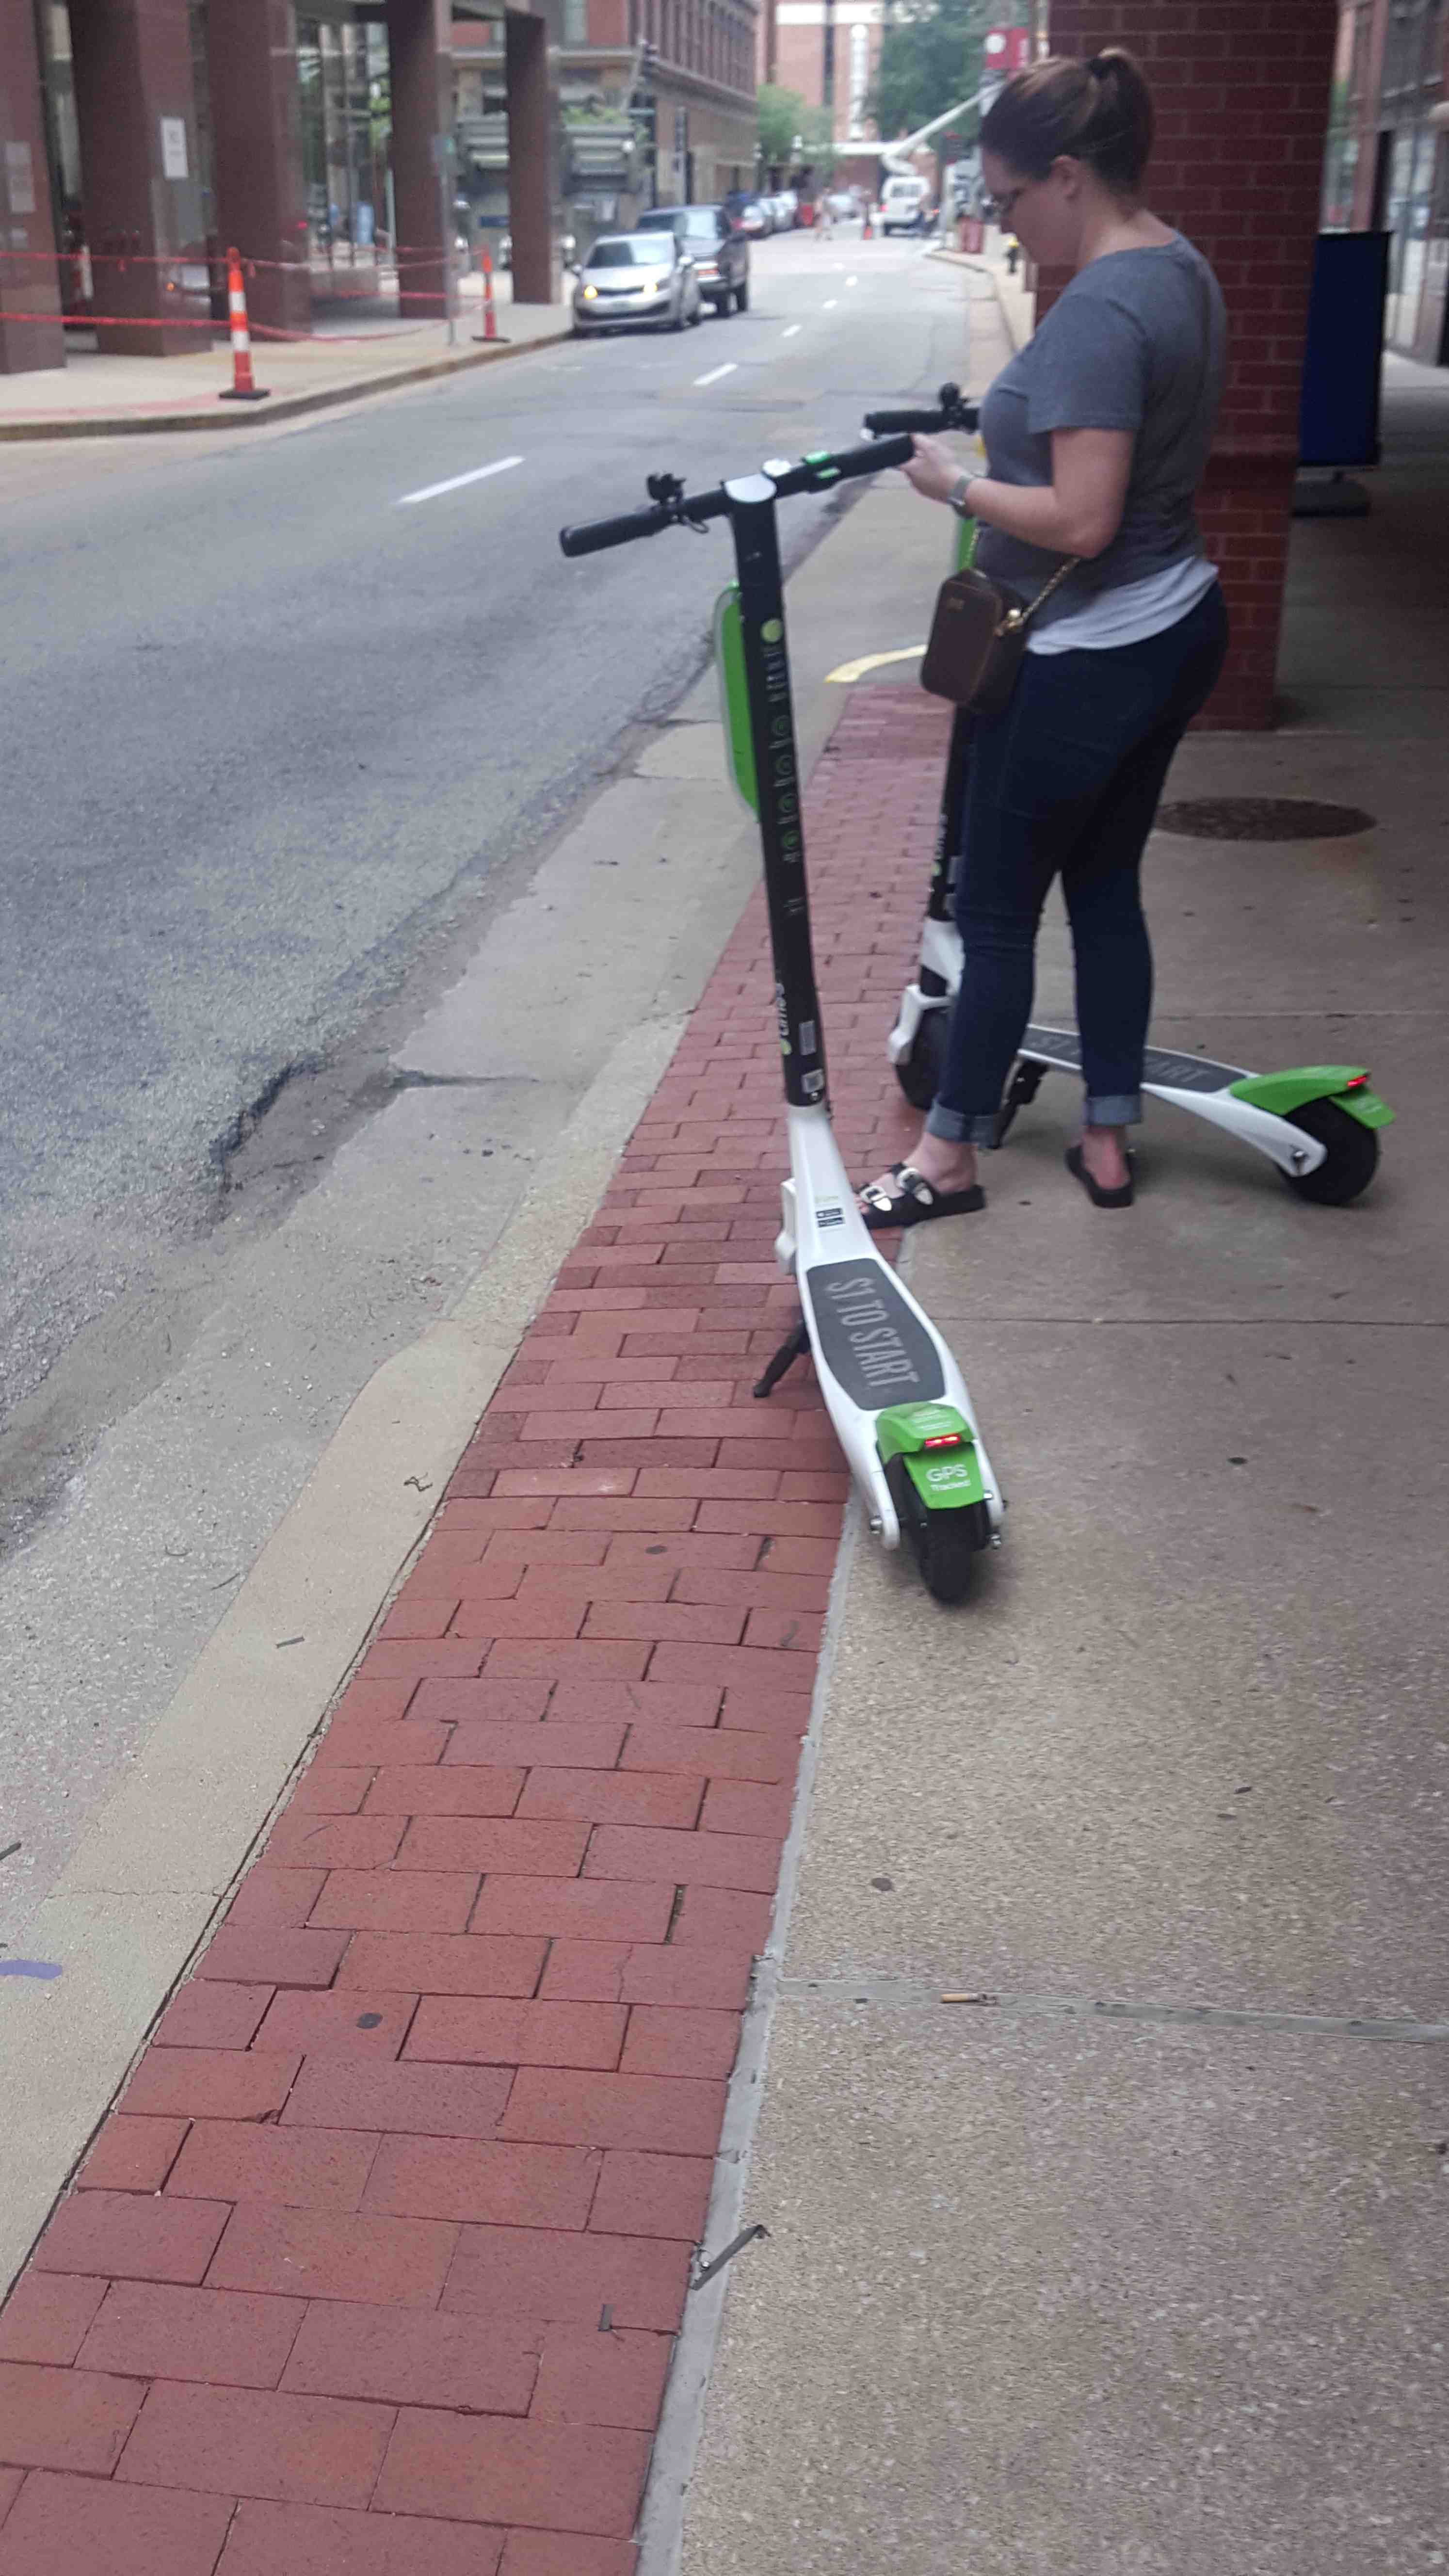scooter: (538, 377, 1033, 1693)
